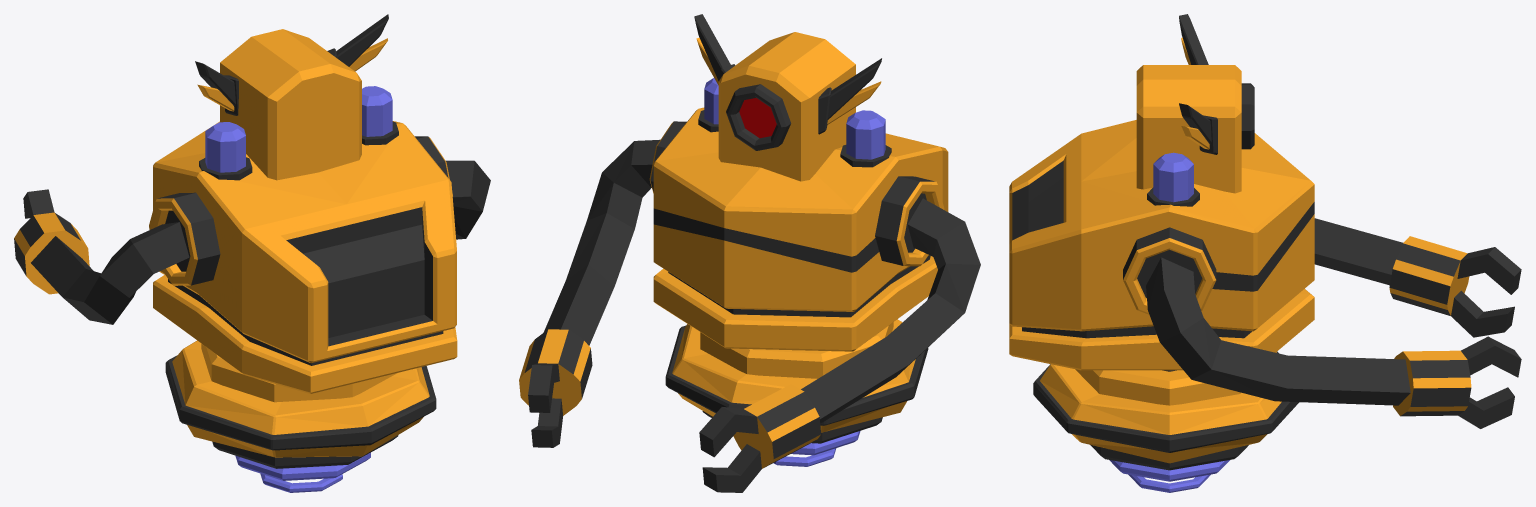
File: LowPolyRobotMain.dae
3 views of the same model, side by side, from view 1: azimuth 30°, elevation 25°; view 2: azimuth 150°, elevation 25°; view 3: azimuth 270°, elevation 25° (orthographic). The views are drawn at different scales.
Parts seen in each view (by area): view 1: Cube.012, Cube, Cube.013, NurbsPath.005, Cylinder.010, Cylinder.009, Cube.014, Cylinder.008, Cube.016, Cylinder.002, Cylinder.012, Cube.017 (+1 smaller); view 2: Cube.012, NurbsPath.005, Cube.014, Cube.013, Cube, Cylinder.010, Cylinder.008, Cylinder.011, Cylinder.009, Cube.016, Cube.017, Cylinder.012 (+3 smaller); view 3: Cube.012, NurbsPath.005, Cube.014, Cube, Cube.013, Cylinder.010, Cylinder.008, Cylinder.009, Cylinder.002, Cube.016, Cylinder.012, Cylinder.011 (+1 smaller).
Part boxes in pixels (bbox=[...]): Cube.012: bbox=[153, 121, 457, 393]; Cube: bbox=[165, 340, 436, 457]; Cube.013: bbox=[220, 29, 361, 180]; NurbsPath.005: bbox=[31, 160, 490, 324]; Cylinder.010: bbox=[149, 136, 452, 285]; Cylinder.009: bbox=[199, 86, 398, 180]; Cube.014: bbox=[14, 189, 89, 294]; Cylinder.008: bbox=[201, 343, 397, 402]; Cube.016: bbox=[195, 14, 388, 106]; Cylinder.002: bbox=[212, 435, 398, 468]; Cylinder.012: bbox=[235, 452, 370, 480]; Cube.017: bbox=[197, 38, 387, 111]; Cube.012: bbox=[653, 107, 948, 351]; NurbsPath.005: bbox=[543, 139, 980, 423]; Cube.014: bbox=[519, 329, 821, 492]; Cube.013: bbox=[718, 32, 855, 181]; Cube: bbox=[665, 319, 928, 432]; Cylinder.010: bbox=[649, 121, 944, 266]; Cylinder.008: bbox=[700, 322, 893, 378]; Cylinder.011: bbox=[726, 84, 791, 150]; Cylinder.009: bbox=[698, 78, 891, 167]; Cube.016: bbox=[694, 14, 881, 119]; Cube.017: bbox=[696, 37, 881, 124]; Cylinder.012: bbox=[791, 431, 860, 455]; Cube.012: bbox=[1009, 120, 1314, 370]; NurbsPath.005: bbox=[1146, 218, 1410, 405]; Cube.014: bbox=[1389, 236, 1521, 428]; Cube: bbox=[1033, 351, 1298, 463]; Cube.013: bbox=[1136, 65, 1241, 193]; Cylinder.010: bbox=[1123, 227, 1216, 314]; Cylinder.008: bbox=[1075, 369, 1240, 405]; Cylinder.009: bbox=[1147, 152, 1199, 206]; Cylinder.002: bbox=[1090, 445, 1248, 470]; Cube.016: bbox=[1179, 14, 1211, 144]; Cylinder.012: bbox=[1109, 460, 1229, 481]; Cylinder.011: bbox=[1241, 83, 1254, 149].
Bounding box in the file's own units: 3.71 × 4.36 × 3.92.
